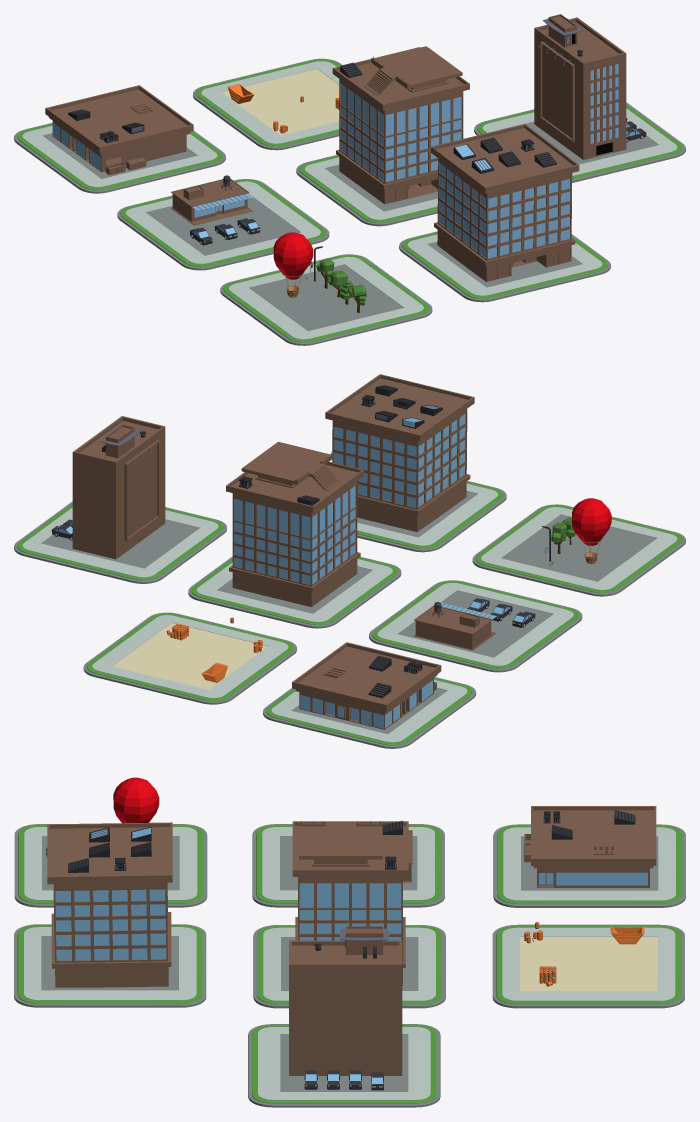
File: City Environment.fbx
3 views of the same model, one above another, from view 1: azimuth 30°, elevation 25°; view 2: azimuth 150°, elevation 25°; view 3: azimuth 270°, elevation 25° (orthographic). The views are drawn at different scales.
Visible parts, largest first — view 1: office builiding, office building helipad!, tiny building with outdoor media sign space, Lowpoly city - extra props, Low poly city - building Construction site, low poly store, Lowpoly city - Small store, Low poly office building, Low poly city blocks, Thin building, Low poly city - Office Building, small building with water tank on the roof (+1 smaller); view 2: office building helipad!, office builiding, Low poly city - building Construction site, tiny building with outdoor media sign space, Lowpoly city - extra props, Lowpoly city - Small store, low poly store, Thin building, Low poly city - Office Building, Low poly city blocks, Low poly office building, small building with water tank on the roof (+1 smaller); view 3: office builiding, tiny building with outdoor media sign space, Low poly city - building Construction site, office building helipad!, low poly store, Thin building, Low poly office building, Low poly city blocks, Low poly city - Office Building, Lowpoly city - Small store, Lowpoly city - extra props, air balloon (+1 smaller).
Boxes of the visible parts, bbox=[...] form: office builiding: bbox=[431, 124, 579, 281]; office building helipad!: bbox=[332, 46, 469, 204]; tiny building with outdoor media sign space: bbox=[534, 14, 626, 159]; Lowpoly city - extra props: bbox=[220, 254, 432, 345]; Low poly city - building Construction site: bbox=[193, 58, 342, 150]; low poly store: bbox=[45, 85, 193, 175]; Lowpoly city - Small store: bbox=[117, 179, 329, 270]; Low poly office building: bbox=[399, 231, 610, 302]; Low poly city blocks: bbox=[14, 122, 225, 193]; Thin building: bbox=[474, 102, 685, 182]; Low poly city - Office Building: bbox=[296, 155, 437, 226]; small building with water tank on the roof: bbox=[171, 175, 252, 225]; office building helipad!: bbox=[226, 441, 363, 606]; office builiding: bbox=[325, 374, 474, 531]; Low poly city - building Construction site: bbox=[83, 612, 296, 704]; tiny building with outdoor media sign space: bbox=[72, 416, 165, 559]; Lowpoly city - extra props: bbox=[472, 504, 685, 596]; Lowpoly city - Small store: bbox=[369, 580, 582, 672]; low poly store: bbox=[292, 642, 441, 729]; Thin building: bbox=[14, 501, 226, 583]; Low poly city - Office Building: bbox=[188, 556, 401, 628]; Low poly city blocks: bbox=[263, 677, 476, 748]; Low poly office building: bbox=[357, 481, 506, 552]; small building with water tank on the roof: bbox=[414, 601, 496, 650]; office builiding: bbox=[47, 822, 172, 987]; tiny building with outdoor media sign space: bbox=[289, 926, 402, 1075]; Low poly city - building Construction site: bbox=[492, 924, 684, 1008]; office building helipad!: bbox=[292, 820, 408, 986]; low poly store: bbox=[524, 806, 656, 887]; Thin building: bbox=[248, 1024, 440, 1107]; Low poly office building: bbox=[14, 924, 206, 1007]; Low poly city blocks: bbox=[493, 824, 685, 907]; Low poly city - Office Building: bbox=[253, 925, 445, 1008]; Lowpoly city - Small store: bbox=[252, 824, 444, 907]; Lowpoly city - extra props: bbox=[14, 824, 207, 907]; air balloon: bbox=[113, 777, 159, 823].
Bounding box in the file's own units: 4757 × 1193 × 4805.
